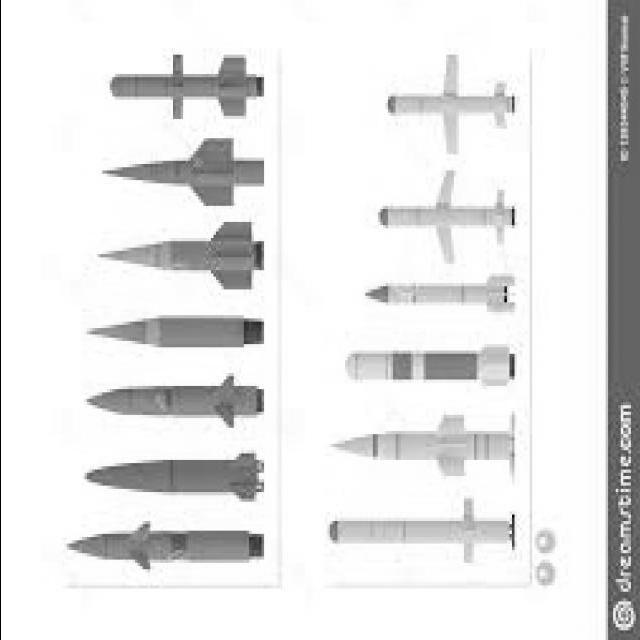Missile: (315, 496, 531, 570), (54, 520, 264, 584), (82, 366, 284, 432), (341, 328, 518, 402), (69, 444, 271, 506), (345, 266, 518, 324)
